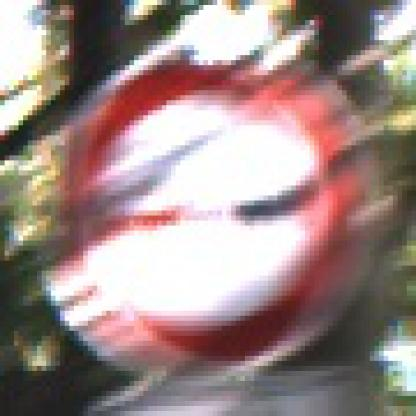No Overtaking: (38, 36, 380, 382)
